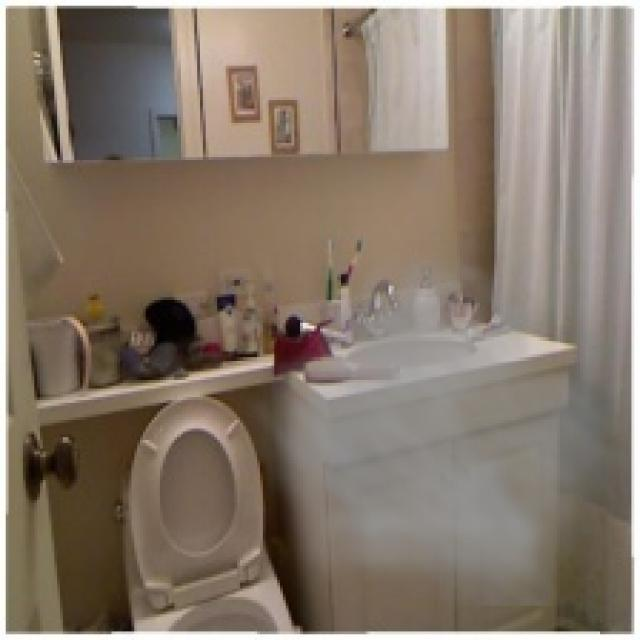smoke: (234, 214, 637, 606)
